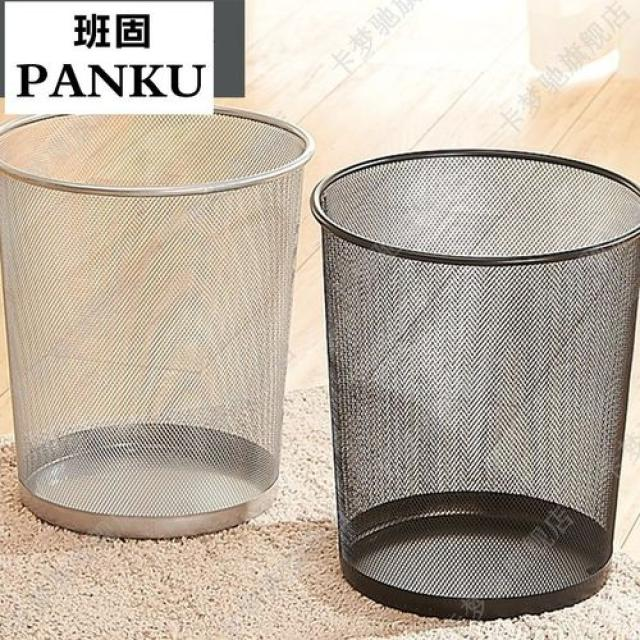dustbin: (306, 141, 640, 623), (0, 104, 316, 543)
